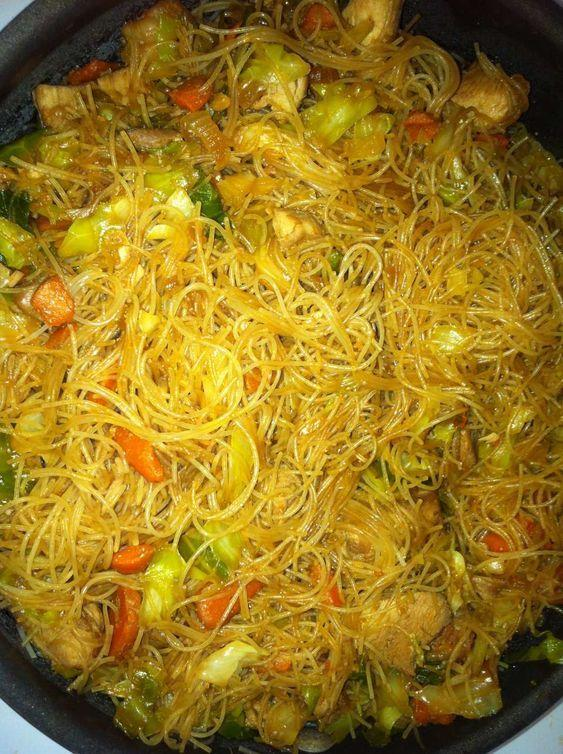pancit bihon: (3, 11, 563, 731)
